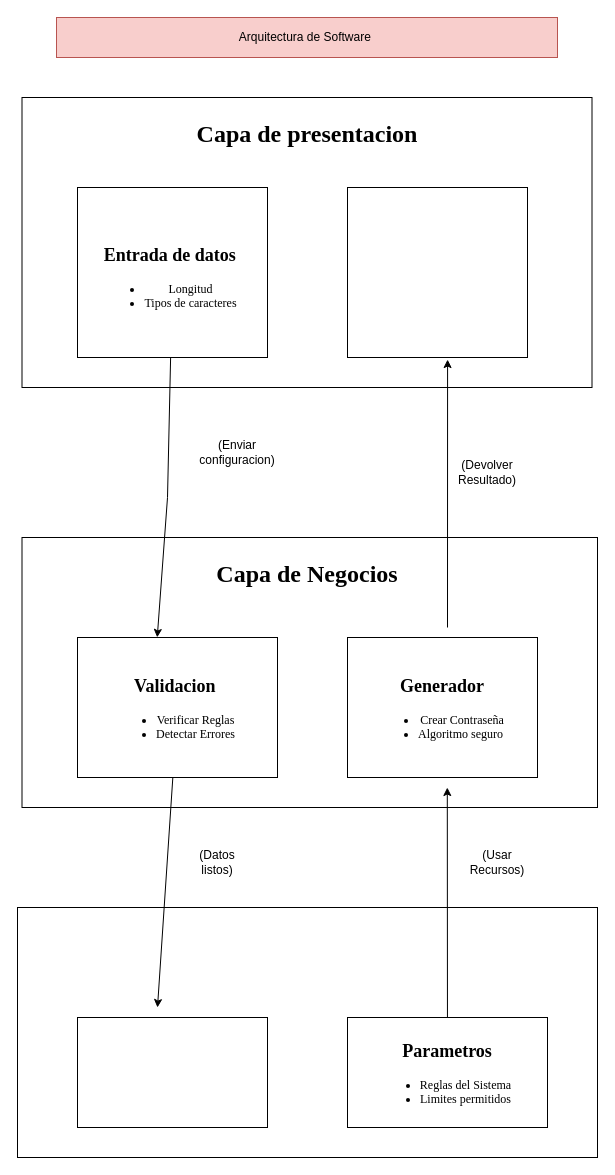
Image size: 615x1175. Some labels were removed from this diagram. Here are the shapes that lost their labels. From the top down, the box of each, then its label:
(346, 186, 528, 358): Salida/Acciones Mostar contraseña Copiar/Reiniciar
(16, 906, 598, 1158): Capa de Datos
(76, 1016, 268, 1128): Catalogo tipos Letras,numeros Simbolos
